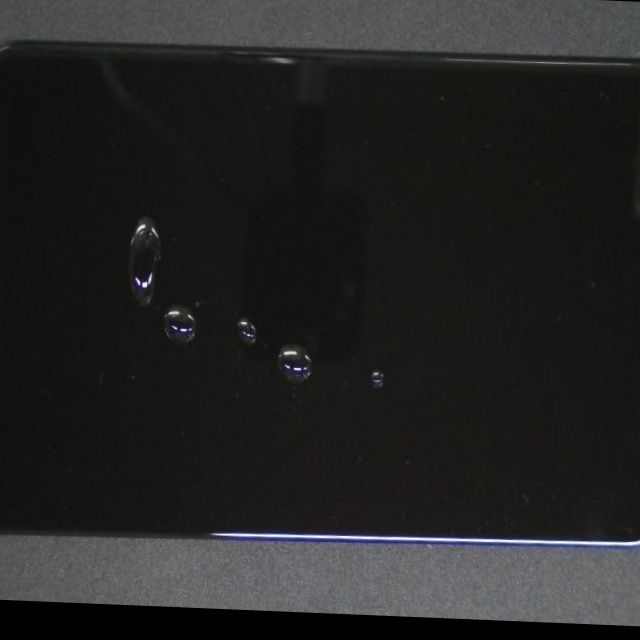oil: (163, 147, 590, 544), (136, 142, 465, 527), (93, 119, 383, 483), (81, 163, 326, 487), (69, 89, 251, 325)
